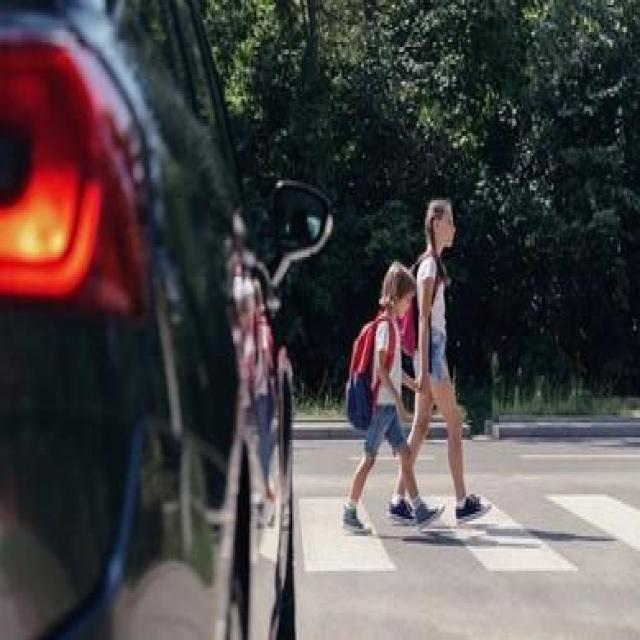person: (419, 199, 492, 530), (341, 260, 420, 551)
